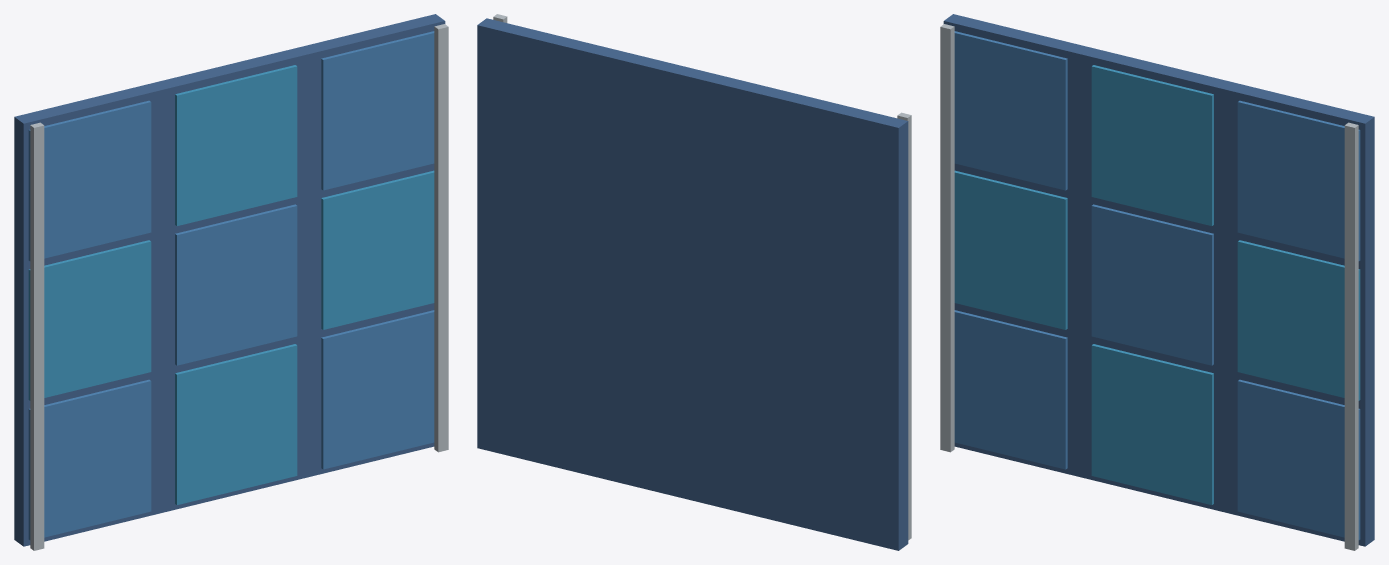
The model's file is sat_solar_replacement_wing.glb.
3 views of the same model, side by side, from view 1: azimuth 30°, elevation 25°; view 2: azimuth 150°, elevation 25°; view 3: azimuth 330°, elevation 25° (orthographic).
Visible parts, largest first — view 1: wing_frame, photo_cell_1_0, photo_cell_1_1, photo_cell_1_2, photo_cell_2_2, photo_cell_2_0, photo_cell_2_1, photo_cell_0_2, photo_cell_0_0, photo_cell_0_1, rail_-0.47, rail_0.47; view 2: wing_frame, rail_-0.47; view 3: wing_frame, photo_cell_1_0, photo_cell_1_1, photo_cell_1_2, photo_cell_0_2, photo_cell_0_0, photo_cell_0_1, photo_cell_2_2, photo_cell_2_0, photo_cell_2_1, rail_0.47, rail_-0.47.
Boxes of the visible parts, x1=… form: wing_frame: x1=14, y1=14, x2=445, y2=546; photo_cell_1_0: x1=175, y1=344, x2=297, y2=504; photo_cell_1_1: x1=175, y1=204, x2=297, y2=365; photo_cell_1_2: x1=175, y1=65, x2=297, y2=225; photo_cell_2_2: x1=321, y1=31, x2=434, y2=190; photo_cell_2_0: x1=321, y1=310, x2=434, y2=469; photo_cell_2_1: x1=321, y1=170, x2=434, y2=329; photo_cell_0_2: x1=28, y1=100, x2=151, y2=260; photo_cell_0_0: x1=28, y1=379, x2=151, y2=539; photo_cell_0_1: x1=28, y1=240, x2=151, y2=400; rail_-0.47: x1=30, y1=122, x2=44, y2=550; rail_0.47: x1=434, y1=24, x2=448, y2=452; wing_frame: x1=477, y1=18, x2=908, y2=550; rail_-0.47: x1=897, y1=112, x2=911, y2=540; wing_frame: x1=943, y1=14, x2=1374, y2=546; photo_cell_1_0: x1=1091, y1=344, x2=1213, y2=504; photo_cell_1_1: x1=1091, y1=204, x2=1213, y2=365; photo_cell_1_2: x1=1091, y1=65, x2=1213, y2=225; photo_cell_0_2: x1=954, y1=31, x2=1067, y2=190; photo_cell_0_0: x1=954, y1=310, x2=1067, y2=469; photo_cell_0_1: x1=954, y1=170, x2=1067, y2=329; photo_cell_2_2: x1=1237, y1=100, x2=1360, y2=260; photo_cell_2_0: x1=1237, y1=379, x2=1360, y2=539; photo_cell_2_1: x1=1237, y1=240, x2=1360, y2=400; rail_0.47: x1=1344, y1=122, x2=1358, y2=550; rail_-0.47: x1=940, y1=24, x2=954, y2=452.
Bounding box in the file's own units: 0.98 × 0.94 × 0.066.
